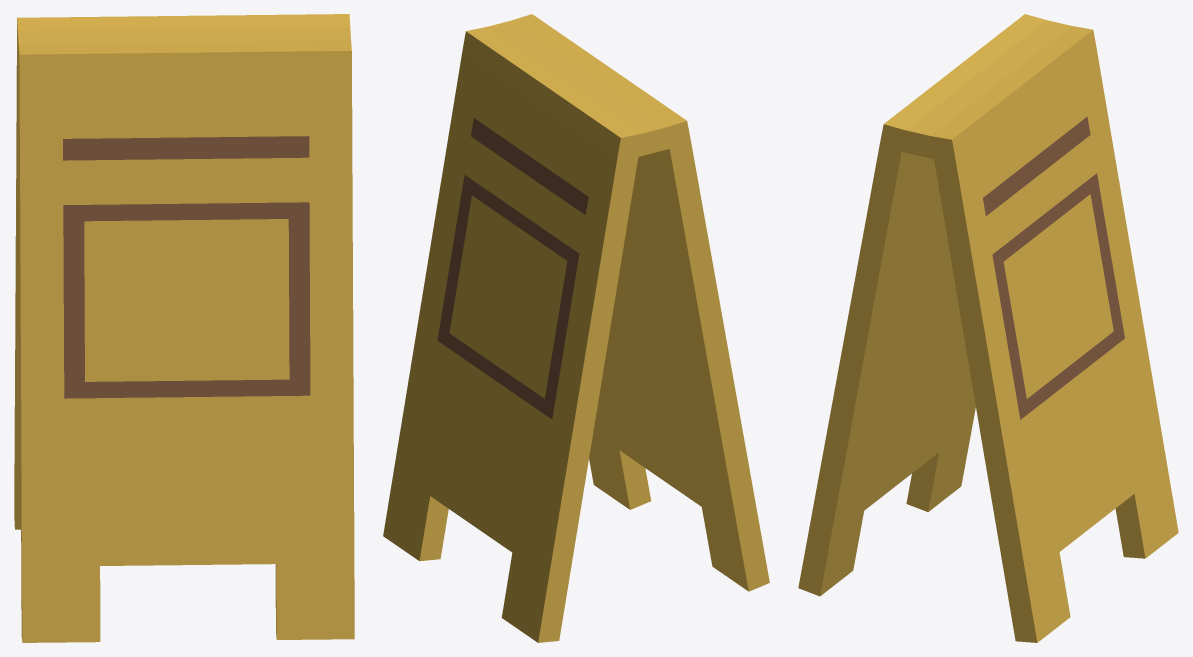
Rendered from Sign_Obs.fbx.
3 renders of one model, left to right at view 1: azimuth 30°, elevation 25°; view 2: azimuth 150°, elevation 25°; view 3: azimuth 270°, elevation 25°, orthographic. The views are drawn at different scales.
Visible parts, largest first — view 1: Sign.001; view 2: Sign.001; view 3: Sign.001.
Boxes of the visible parts, x1,y1,x2,y2 form: Sign.001: (14,14,354,642); Sign.001: (383,14,769,642); Sign.001: (798,14,1178,642).
Bounding box in the file's own units: 22.49 × 30.97 × 21.92.
